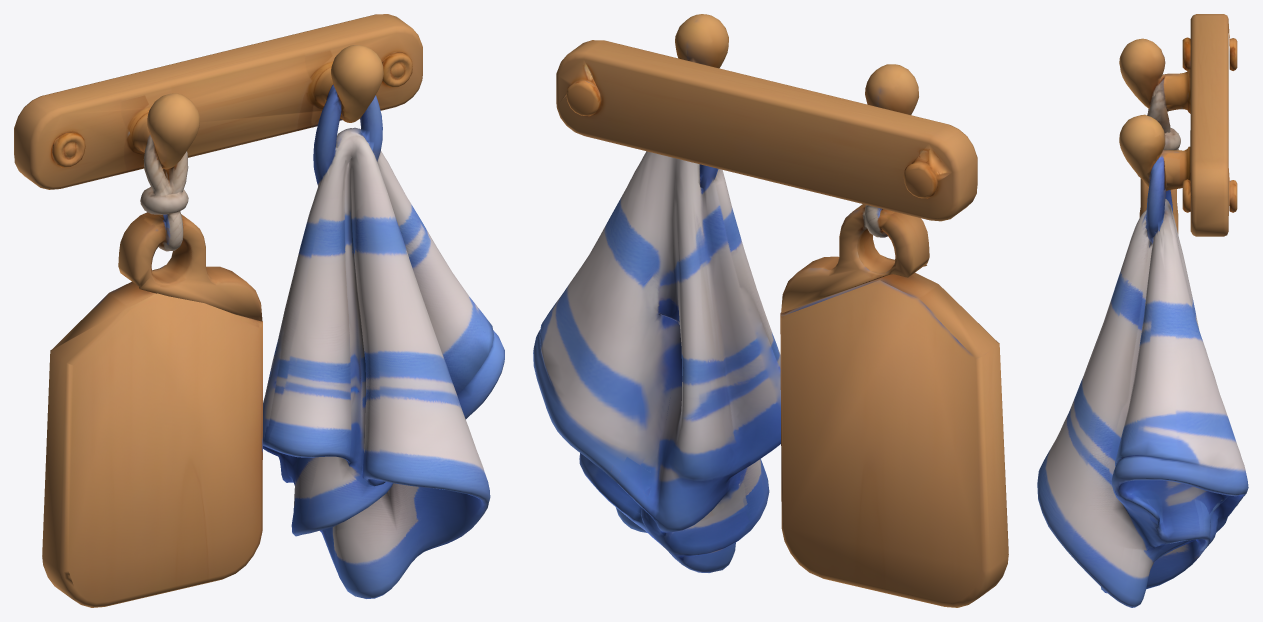
Rendered from board-cloth.glb.
3 renders of one model, left to right at view 1: azimuth 30°, elevation 25°; view 2: azimuth 150°, elevation 25°; view 3: azimuth 270°, elevation 25°, orthographic. The views are drawn at different scales.
Visible parts, largest first — view 1: board_cloth_mesh; view 2: board_cloth_mesh; view 3: board_cloth_mesh.
Part boxes in pixels (x1,y1,x2,y2): board_cloth_mesh: (14, 14, 504, 607); board_cloth_mesh: (533, 14, 1008, 607); board_cloth_mesh: (1037, 14, 1248, 607).
Size of the model in its own units: 0.429 by 0.5 by 0.1999.
Materials: 1 (1 with a texture image).
